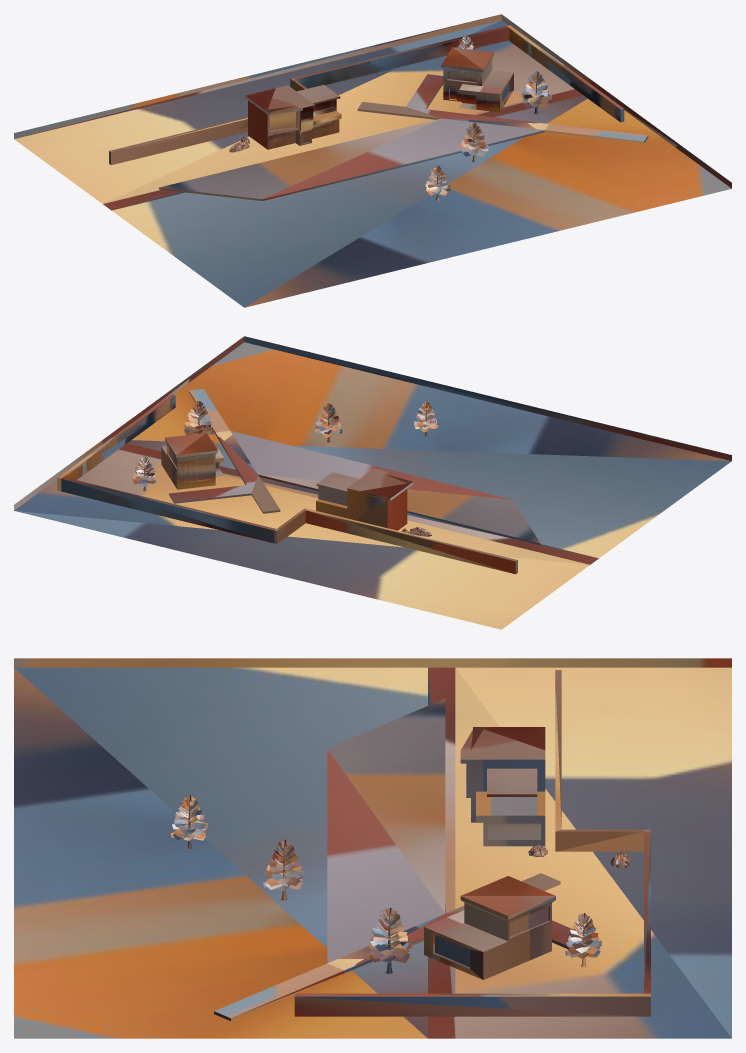
Rendered from reproj_shaded.glb.
The picture shows the model from 3 angles, top to bottom: view 1: azimuth 30°, elevation 25°; view 2: azimuth 150°, elevation 25°; view 3: azimuth 270°, elevation 25°; orthographic projection. The views are drawn at different scales.
Parts seen in each view (by area): view 1: mvadapter_node_reproj; view 2: mvadapter_node_reproj; view 3: mvadapter_node_reproj.
Boxes of the visible parts, left/top/right/bottom form: mvadapter_node_reproj: left=14, top=14, right=731, bottom=307; mvadapter_node_reproj: left=14, top=336, right=731, bottom=629; mvadapter_node_reproj: left=14, top=658, right=731, bottom=1038.
Bounding box in the file's own units: 28.33 × 2.61 × 23.18.
1 material, 1 textured.
